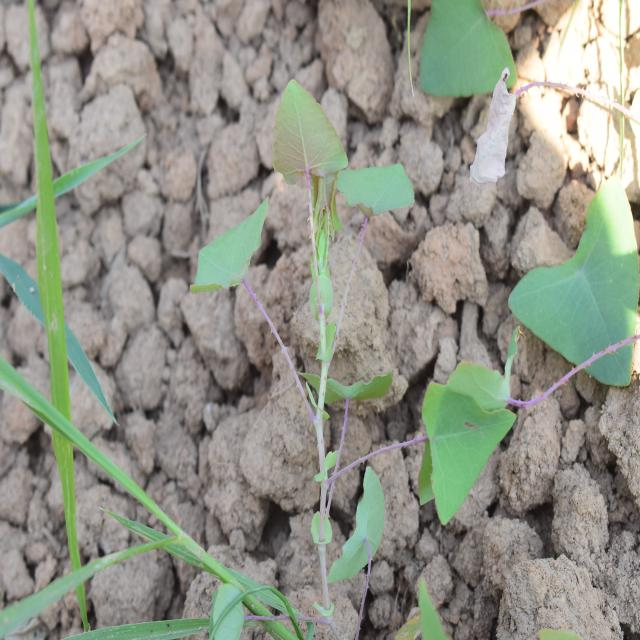Asiatic_Smartweed: (185, 81, 403, 332), (521, 172, 640, 402), (415, 349, 523, 519)
